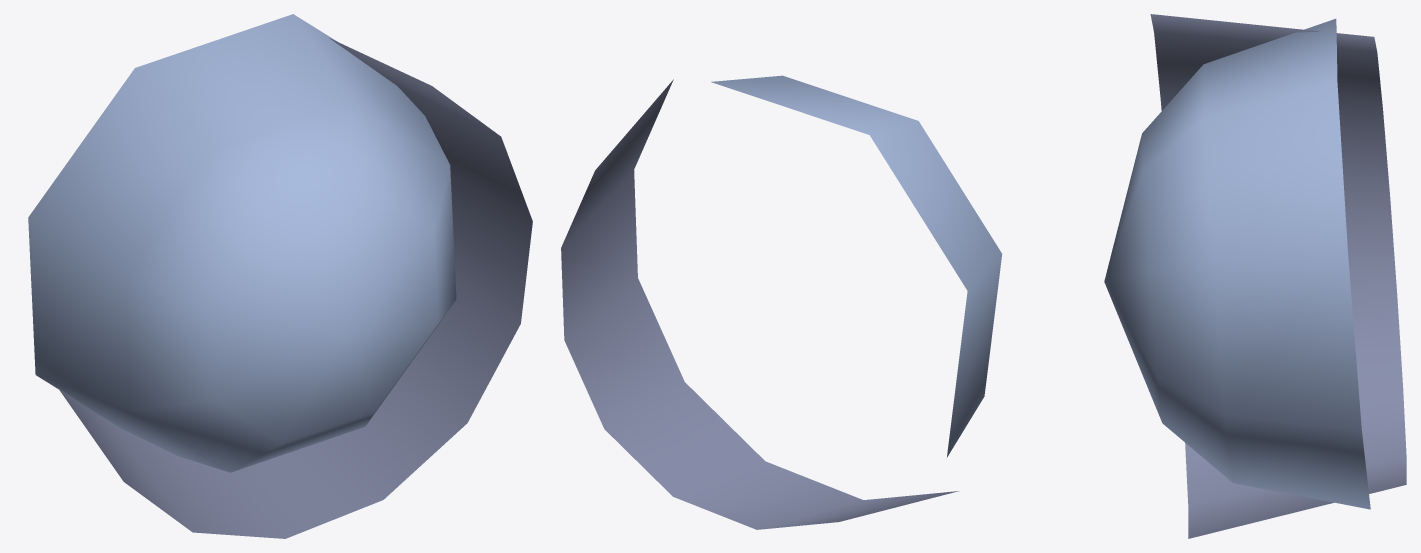
File: DJStageLightBlue_0.glb
3 views of the same model, side by side, from view 1: azimuth 30°, elevation 25°; view 2: azimuth 150°, elevation 25°; view 3: azimuth 270°, elevation 25° (orthographic). The views are drawn at different scales.
Visible parts, largest first — view 1: DJStageLightBlue; view 2: DJStageLightBlue; view 3: DJStageLightBlue.
Part boxes in pixels (<box>): DJStageLightBlue: <box>28,14,532,538</box>; DJStageLightBlue: <box>561,75,1002,529</box>; DJStageLightBlue: <box>1104,14,1406,538</box>.
Size of the model in its own units: 0.1917 by 0.1926 by 0.1111.
